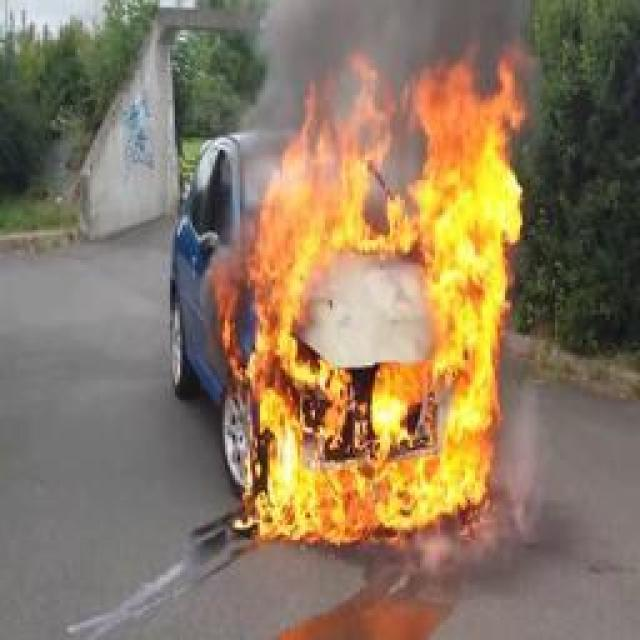Fire: (211, 35, 524, 543)
